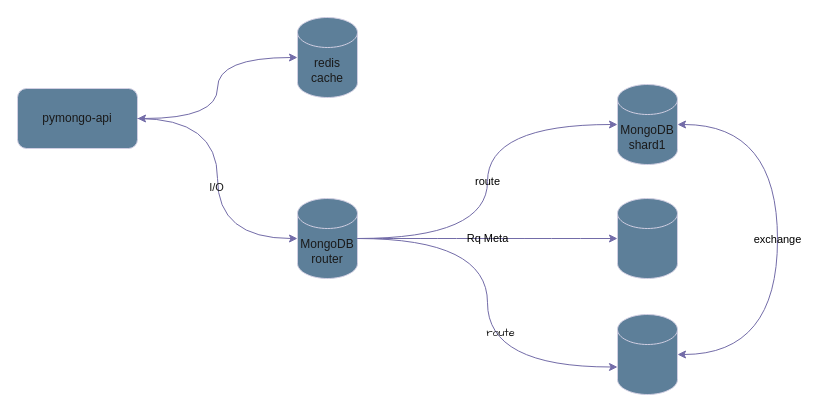
Some shapes in this 819 by 412 pixel diagram are drawn without their labels. The box of each missing label's shape, as (x1, y1, x2, y2) in pixels:
MongoDB configSrv: (616, 198, 678, 278)
MongoDB shard1-1: (616, 314, 678, 394)
